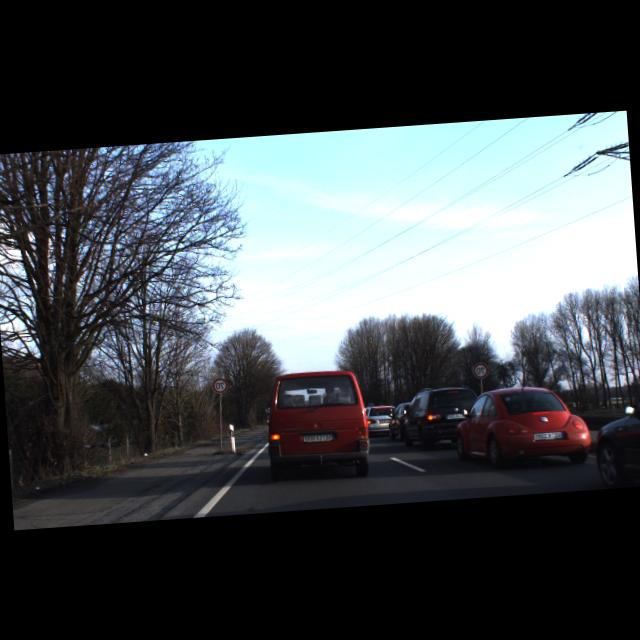prohibitory: (472, 361, 490, 379), (212, 376, 229, 394)
